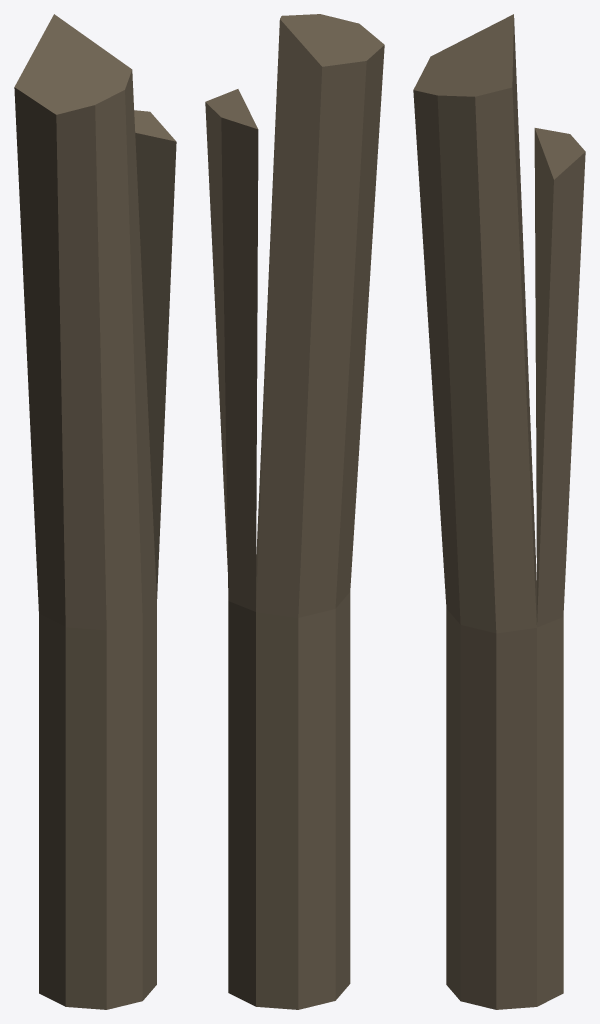
Rendered from TallWaterRock.glb.
3 views of the same model, side by side, from view 1: azimuth 30°, elevation 25°; view 2: azimuth 150°, elevation 25°; view 3: azimuth 330°, elevation 25° (orthographic). The views are drawn at different scales.
Visible parts, largest first — view 1: Cylinder; view 2: Cylinder; view 3: Cylinder.
Boxes of the visible parts, box(x1,y1,x2,y2) form: Cylinder: box(14, 14, 176, 1009); Cylinder: box(205, 14, 384, 1009); Cylinder: box(413, 14, 585, 1009).
Size of the model in its own units: 1.16 by 7.23 by 0.8884.
